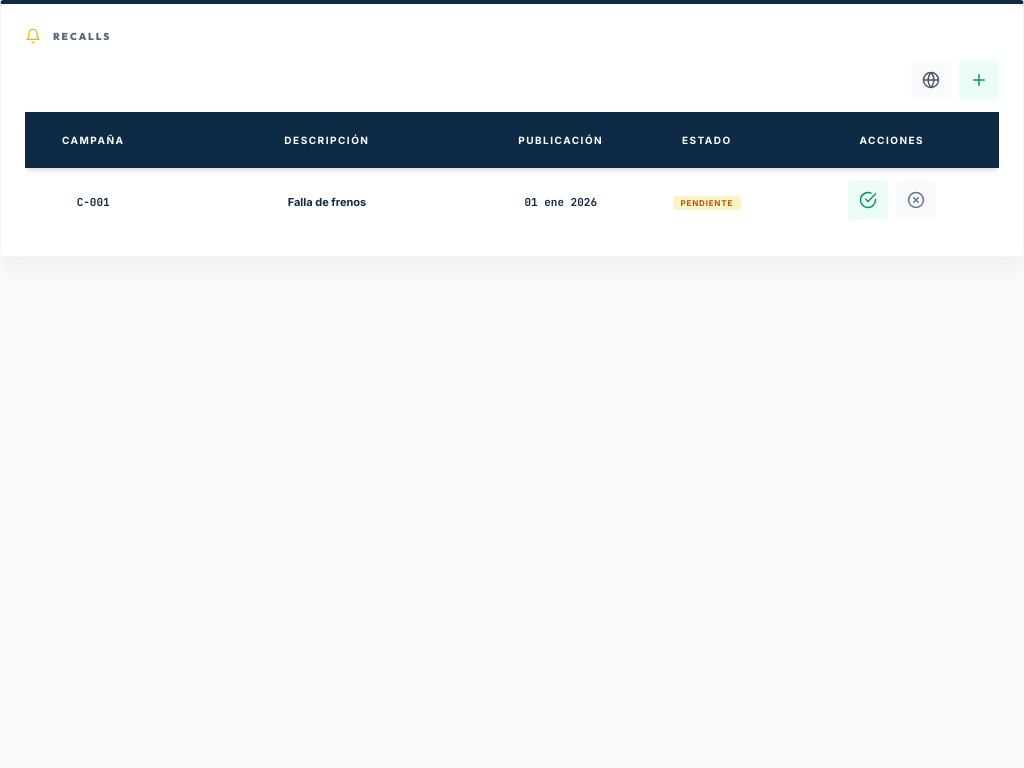
RecallsSection › opens the Link Recall modal and closes it via Cancelar
The width and height of the screenshot is (1024, 768).
Click the button titled "Vincular recall del catálogo" at [979, 80], box x1=959 y1=60 x2=999 y2=100
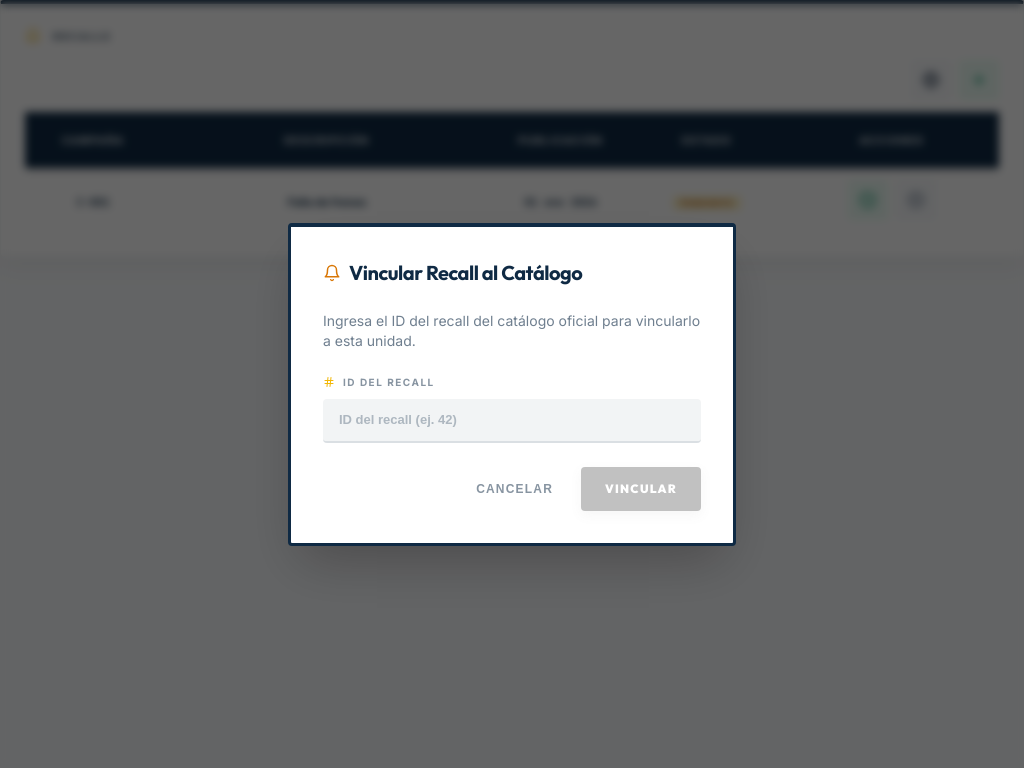
Expected: the number field labelled "ID del recall" is shown, x1=323 y1=398 x2=701 y2=442
Click the button "Cancelar" at [515, 488], box x1=460 y1=466 x2=569 y2=510
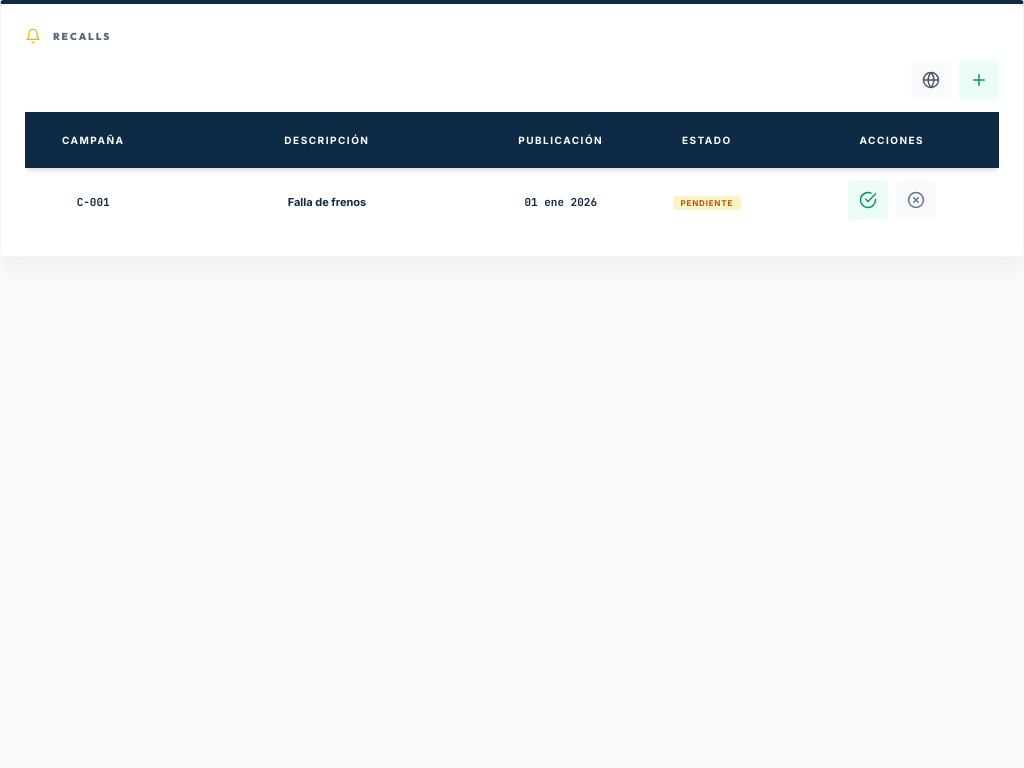
Expected: the text labelled "ID del recall" is gone
